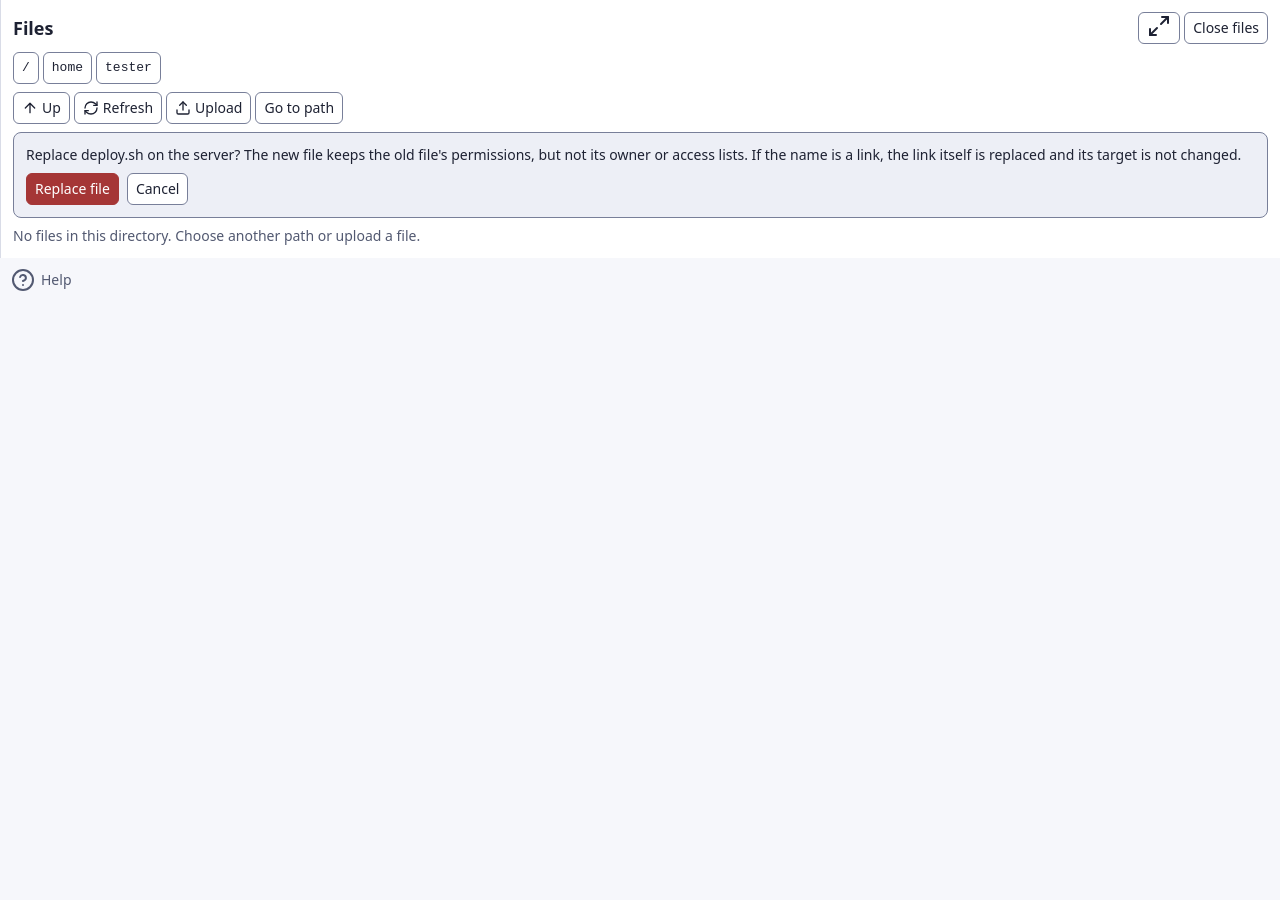
Scenario: replace › asks before replacing when the engine finds the file, then overwrites
This screenshot has width=1280, height=900.
Earlier steps of the test are not shown.
Expected: the text "No files in this directory. Choose another path or upload a file." is shown, x1=13 y1=226 x2=420 y2=245
Expected: the dialog named "Replace file" shows "keeps the old file's permissions, but not its owner", x1=144 y1=145 x2=1241 y2=164
Click the button "Replace file" at coordinates (72, 189), box x1=26 y1=173 x2=119 y2=205
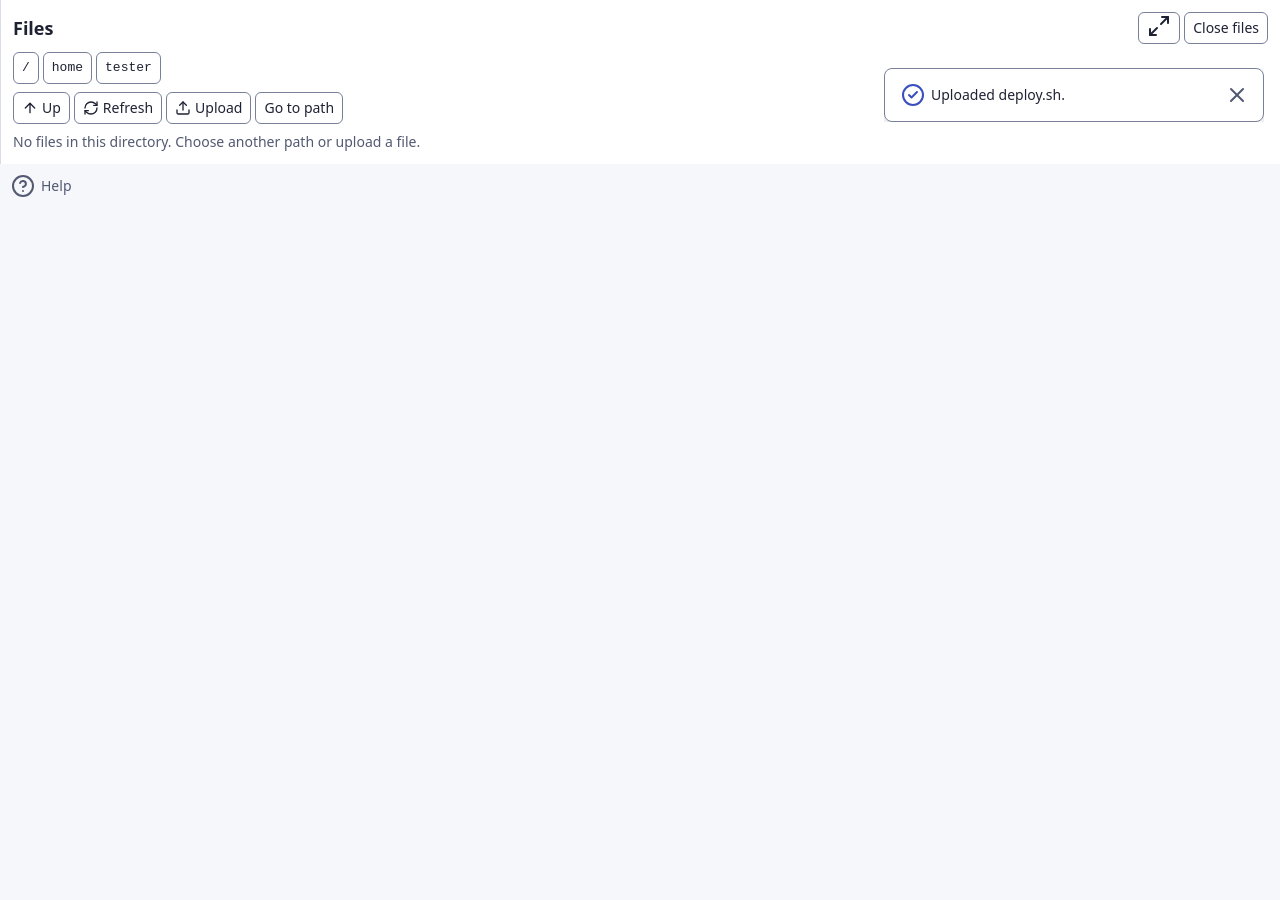
Expected: the text "Uploaded deploy.sh." is shown, x1=931 y1=85 x2=1065 y2=104
